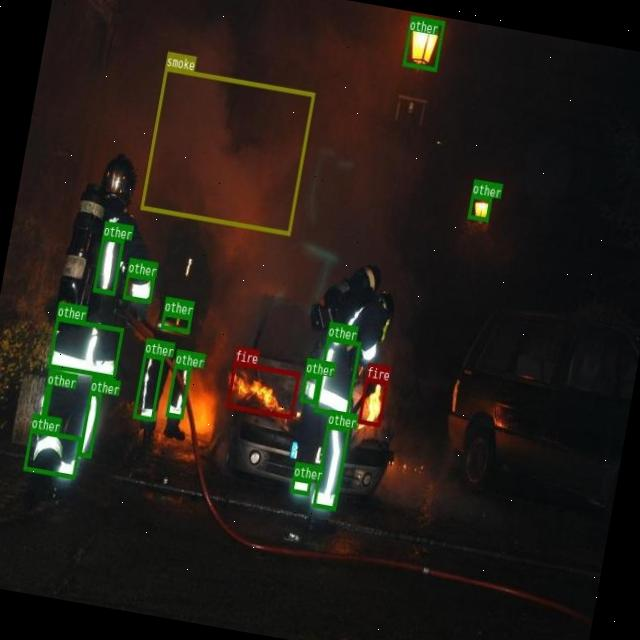fire: (226, 359, 298, 418), (356, 376, 386, 426)
smoke: (140, 66, 314, 234)
